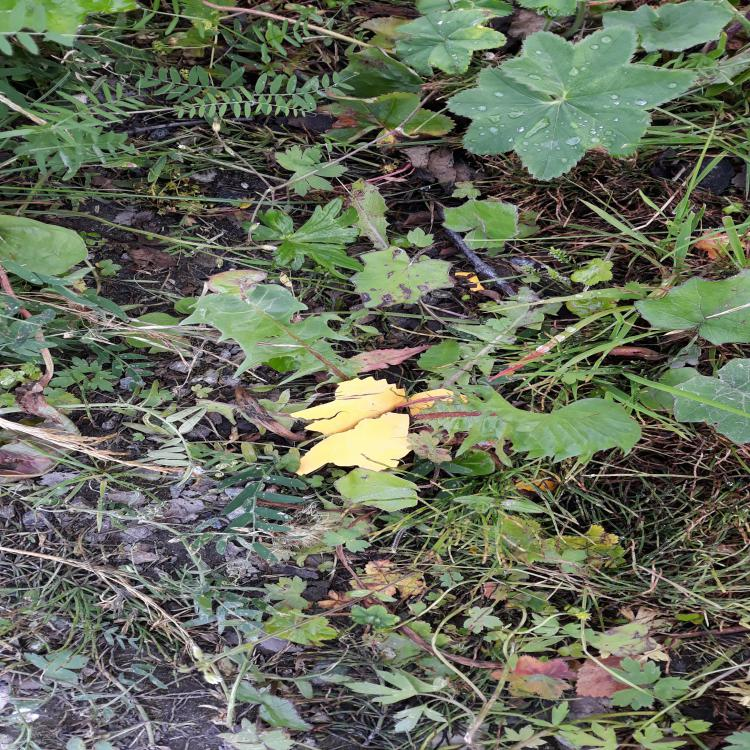Other plastic wrapper: (289, 376, 468, 434), (294, 412, 412, 476)
